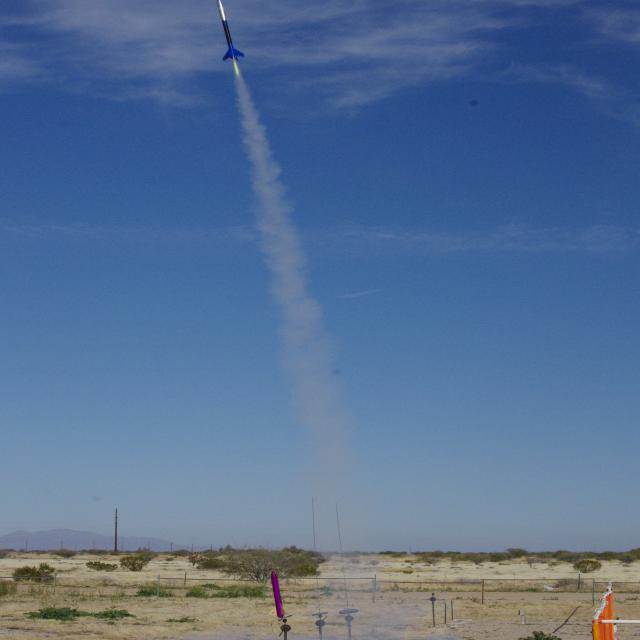Rocket: (269, 570, 287, 618)
